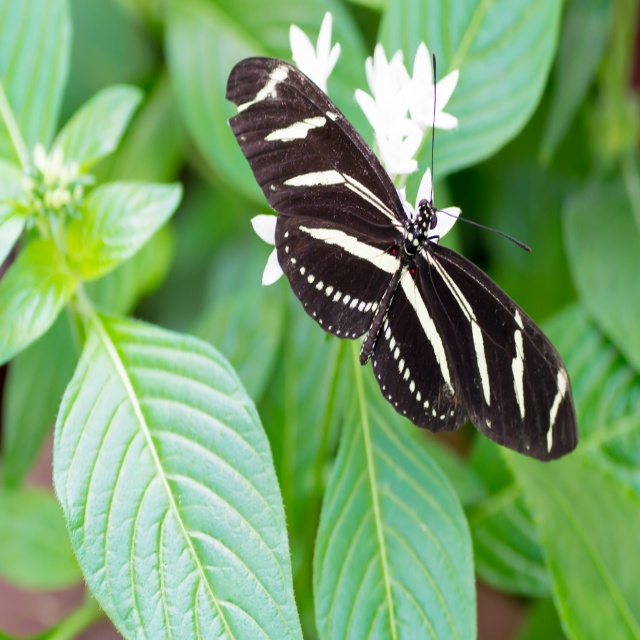Butterfly: (226, 46, 579, 460)
